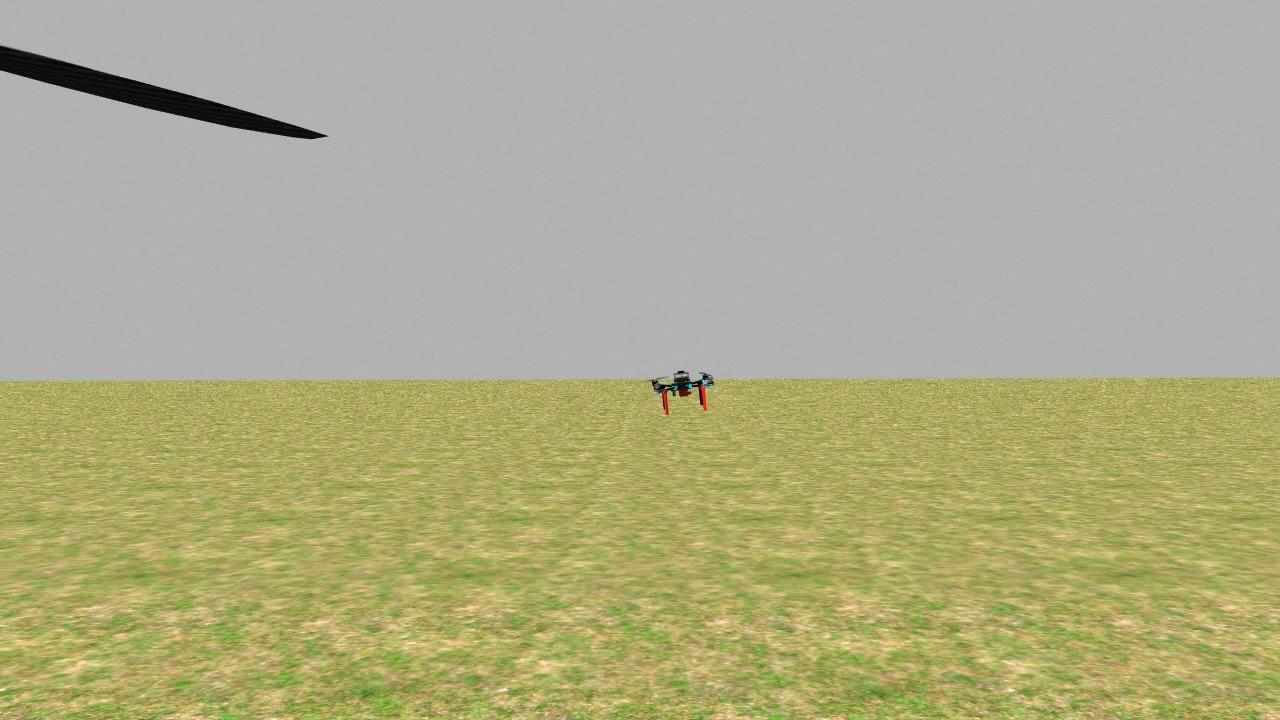UAV: (624, 349, 740, 424)
